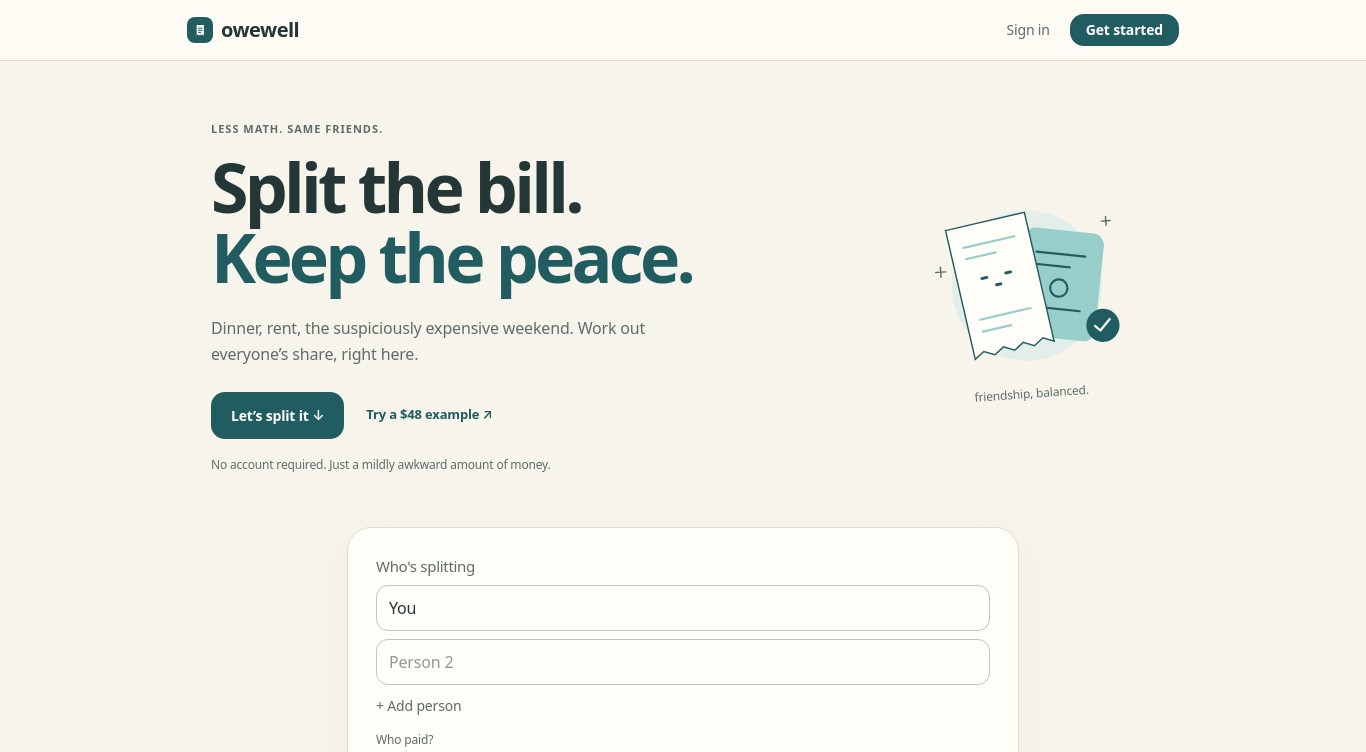
Test: the split itself › tells the payer their own share, which the transfer list never can
Replace the text in the field named "Person 1 name" with "Alice" at (683, 608), box x1=376 y1=585 x2=990 y2=631
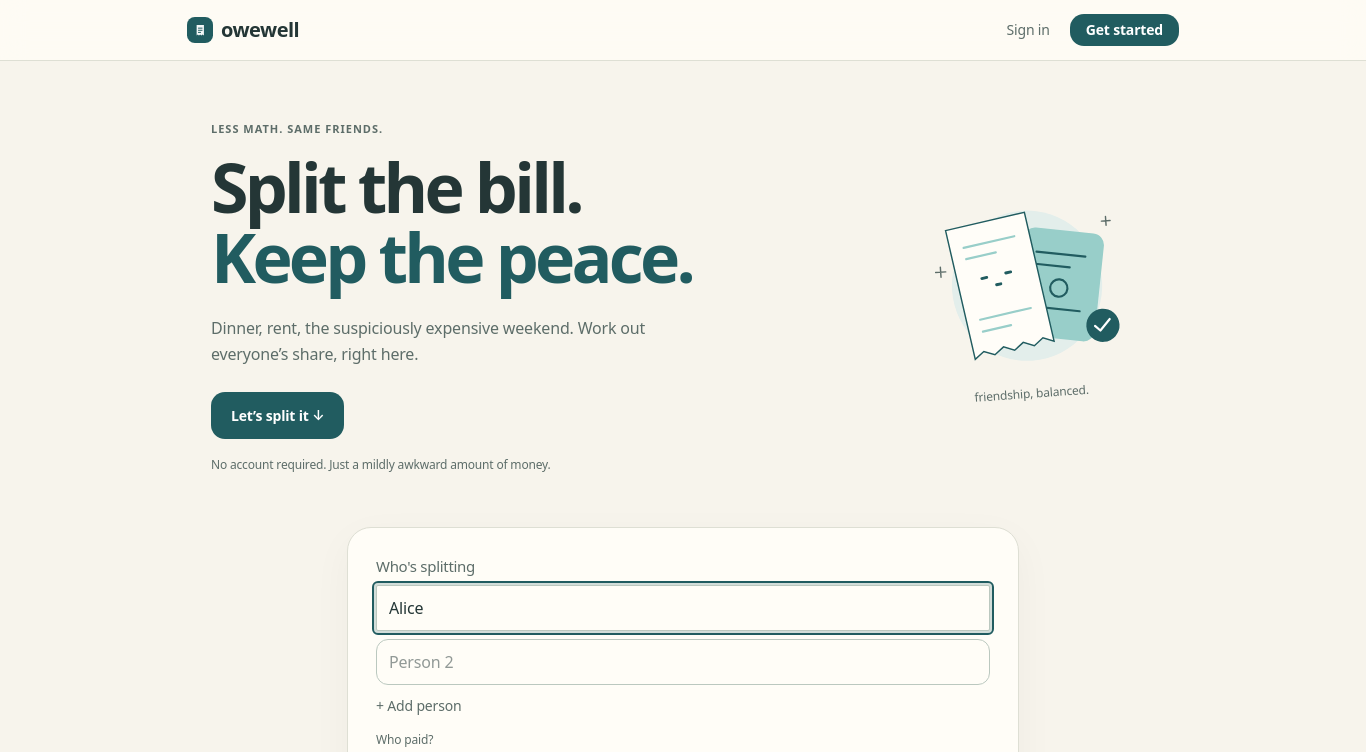
Type "Bob" into the field with placeholder "Person 2".
click(683, 662); type("Bob")  # box x1=376 y1=639 x2=990 y2=685
(page scrolled)
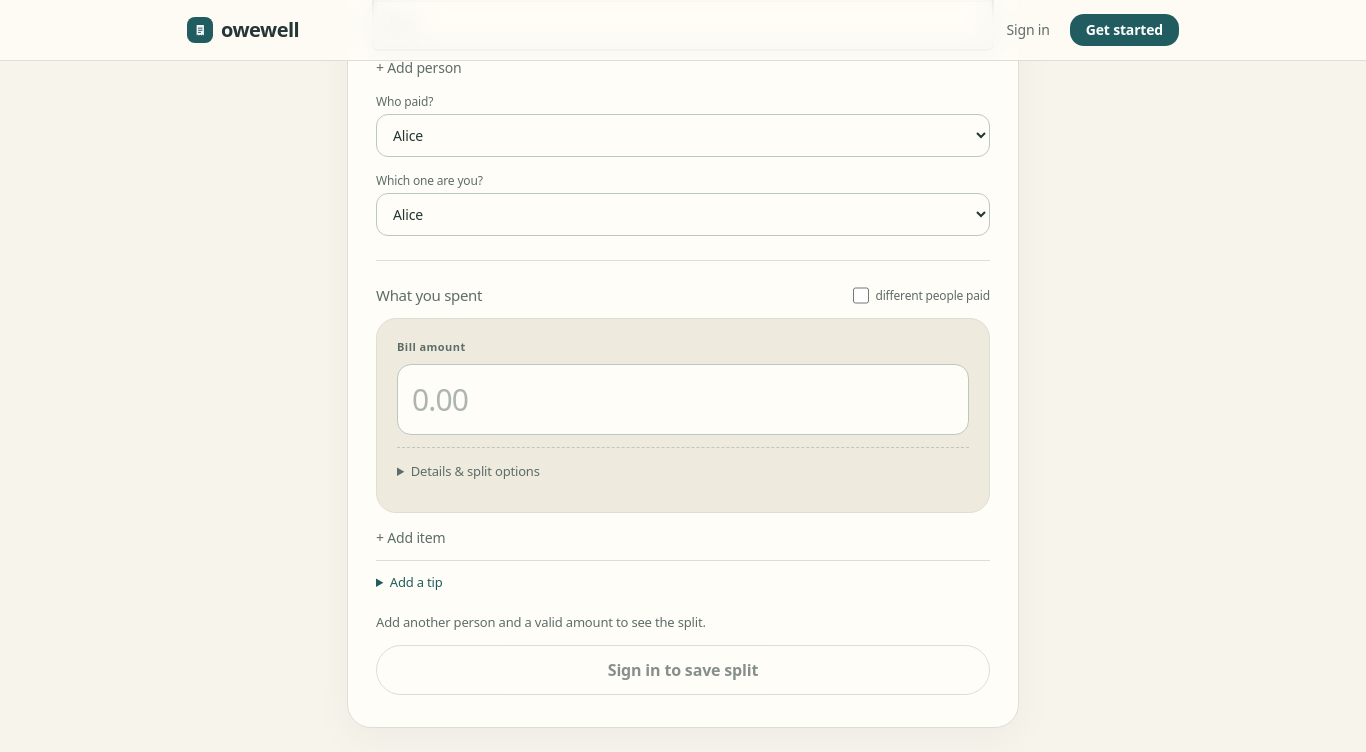
Click the heading "Details & split options".
click(475, 471)  # box x1=411 y1=462 x2=540 y2=480
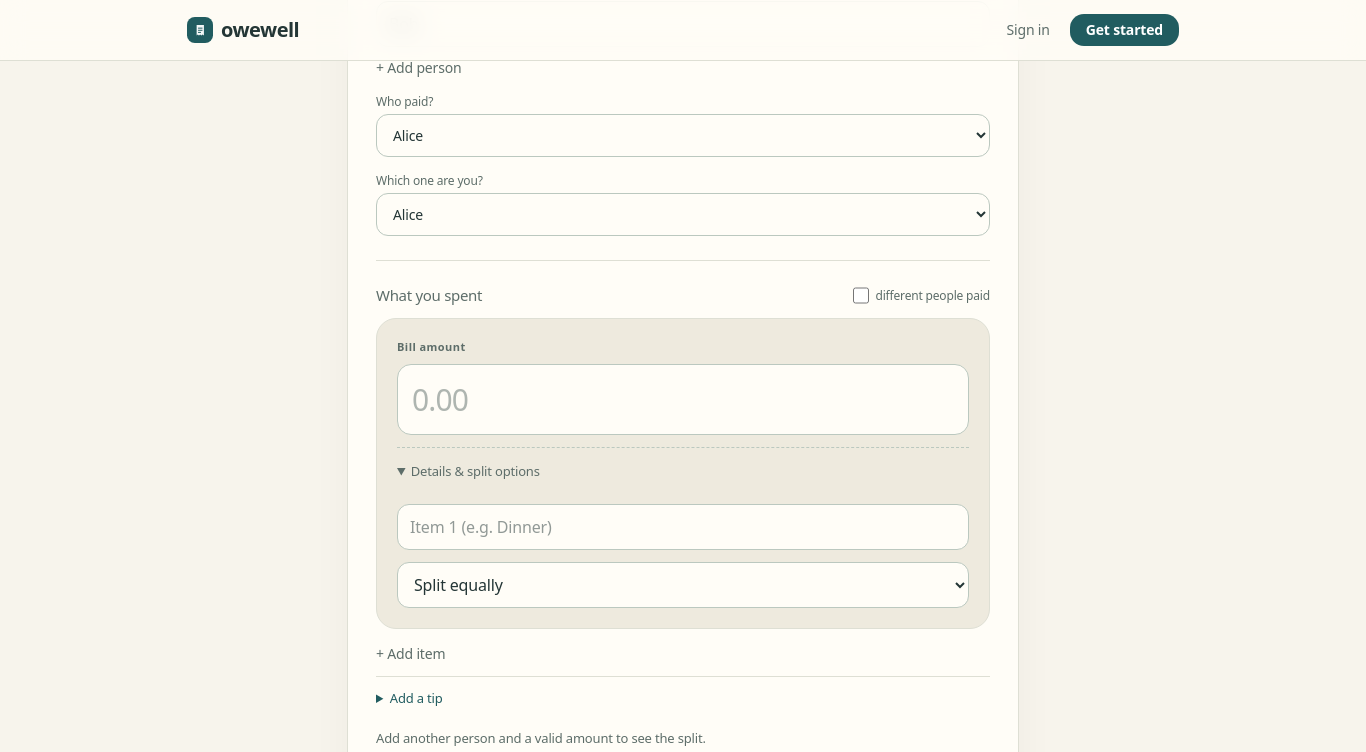
Type "Dinner" into the field named "Item 1 description".
click(683, 527); type("Dinner")  # box x1=397 y1=504 x2=969 y2=550
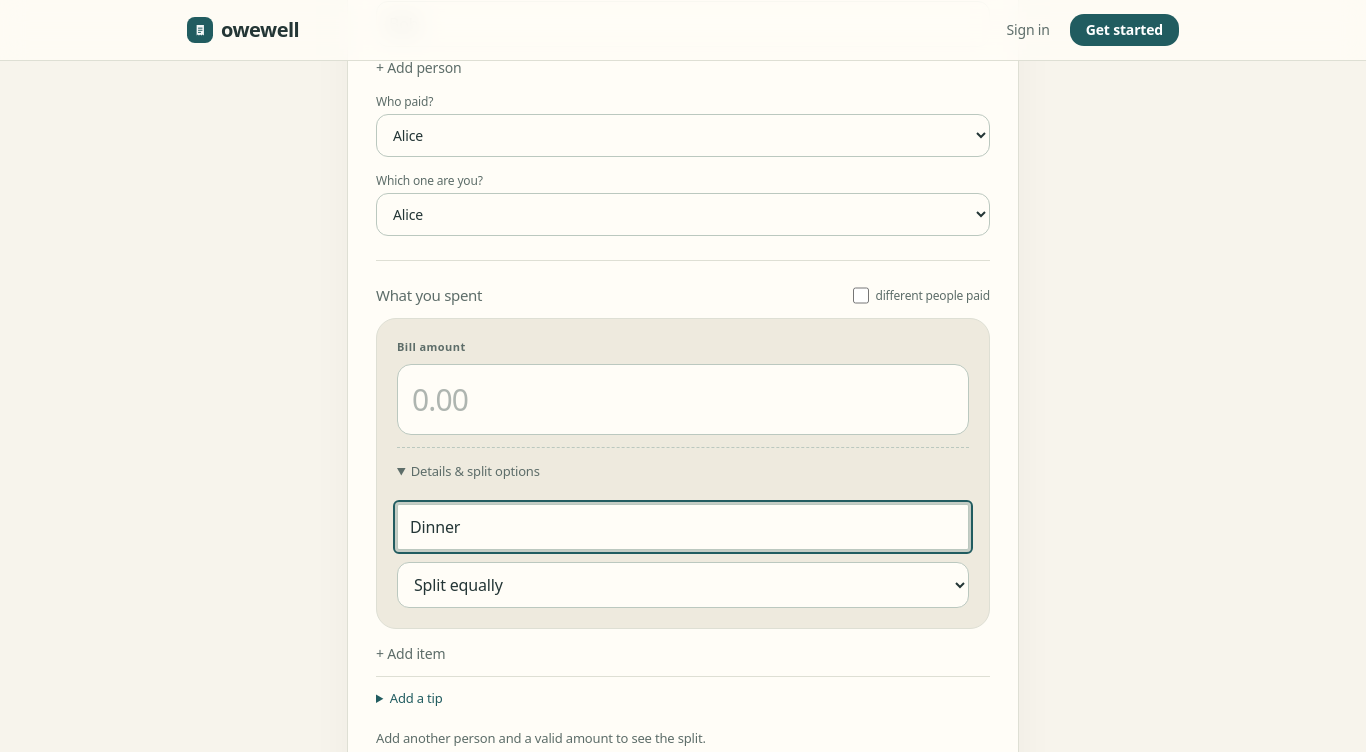
Type "40.00" into the field named "Item 1 amount".
click(683, 399); type("40.00")  # box x1=397 y1=364 x2=969 y2=435
(page scrolled)
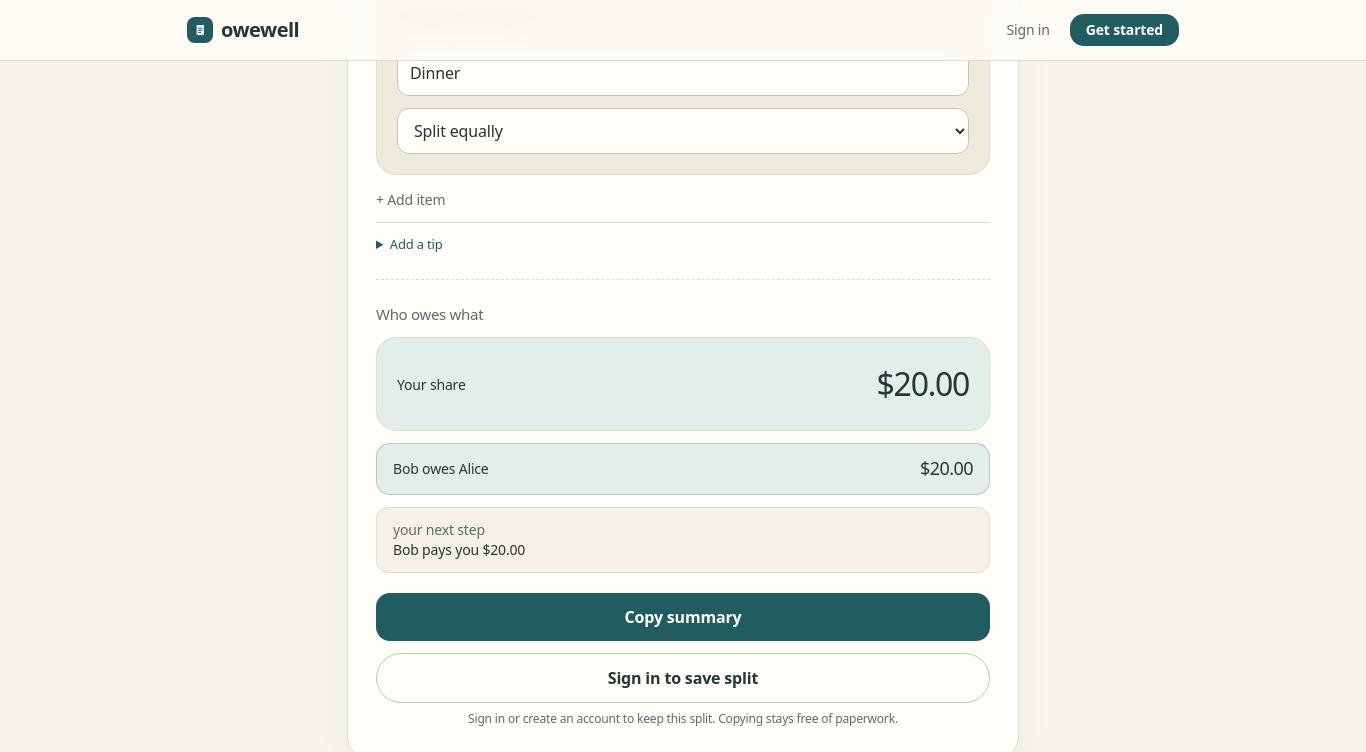
Expected: the text "Your share" shows "$20.00", x1=877 y1=362 x2=969 y2=405
